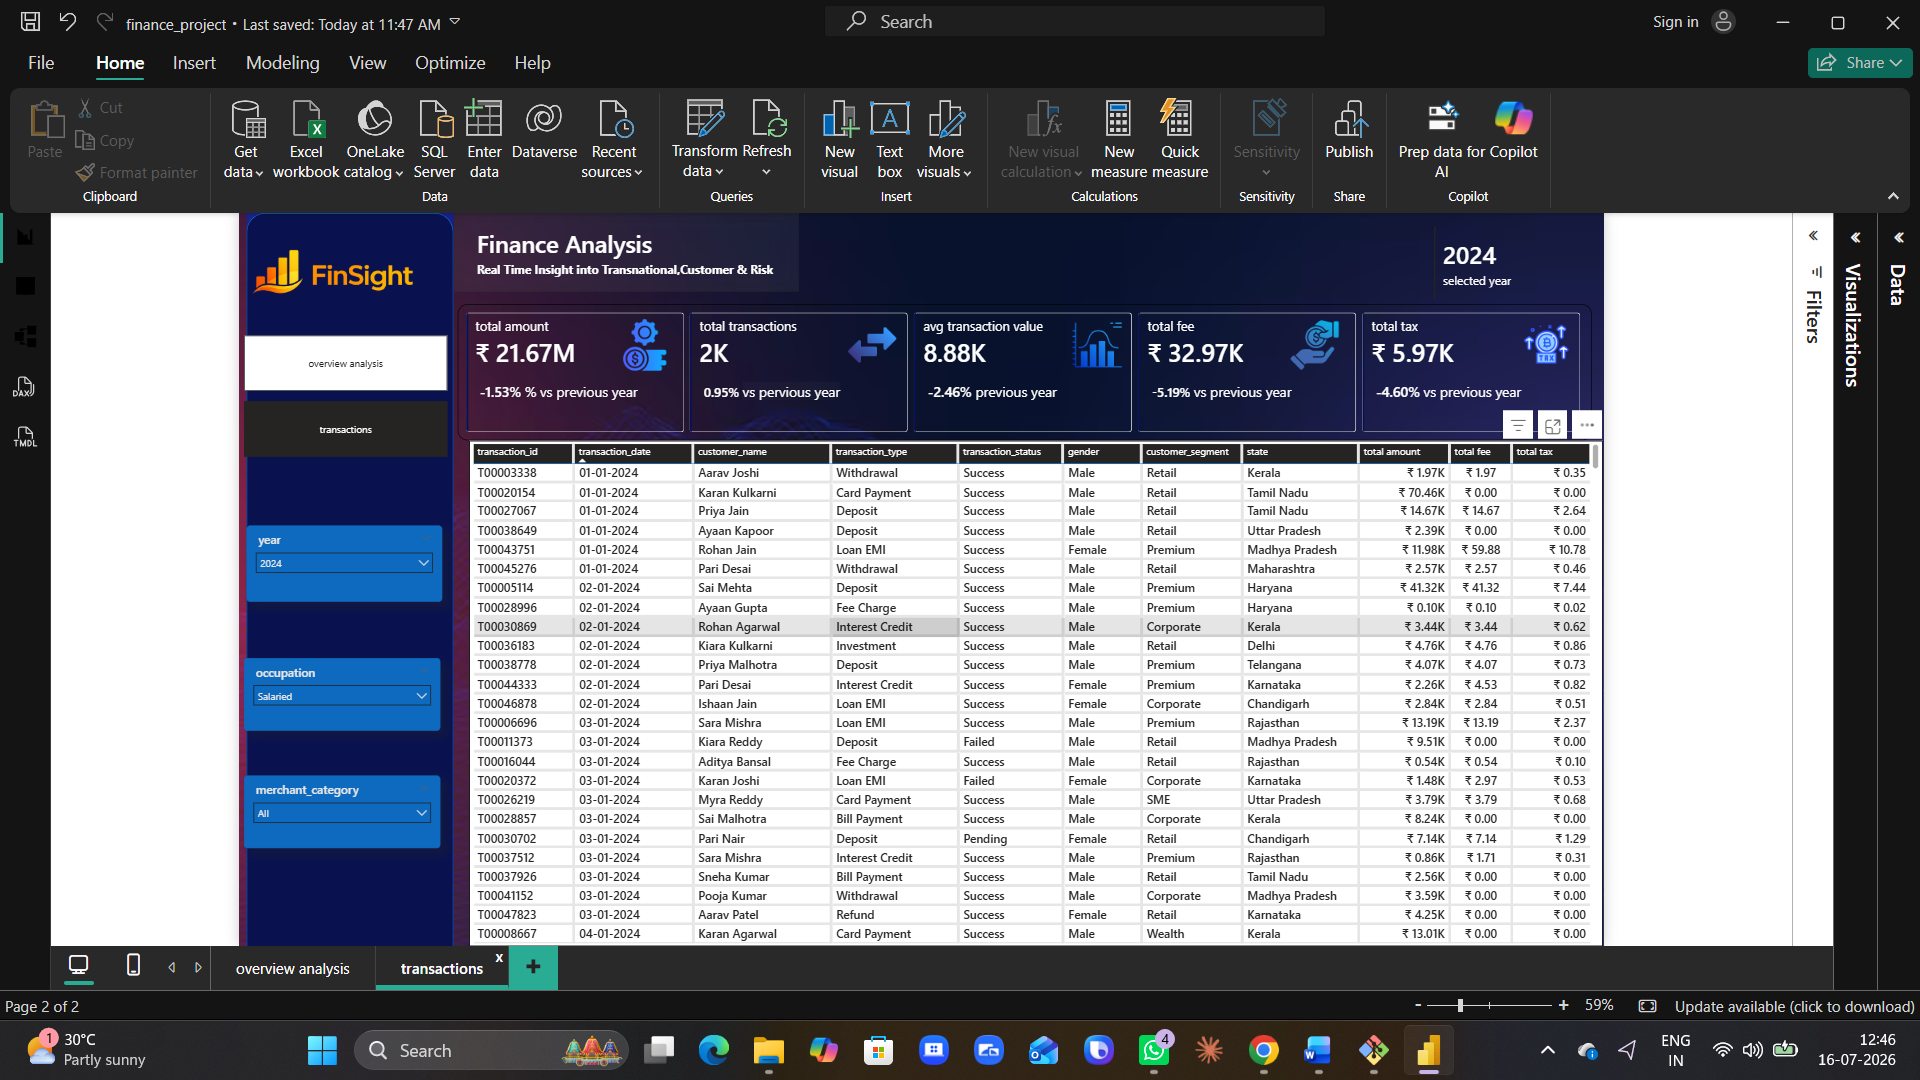

The dashboard page shown, as its layout file describes it:
{"tool":"powerbi","page":{"name":"transactions","canvas":[1845,992],"ordinal":1},"visuals":[{"type":"shape","box":[9.6,0,279.8,1049.7],"z":0},{"type":"image","box":[9.6,15.4,239.3,129.3],"z":1000},{"type":"cardVisual","fields":{"Data":["finance_transactions.dashboard title"]},"box":[290.8,0,466.6,106.5],"z":2000},{"type":"cardVisual","fields":{"Data":["finance_transactions.total amount","finance_transactions.total transactions","finance_transactions.avg transaction value","finance_transactions.total fee","finance_transactions.total tax"]},"box":[295.8,123.4,1533.3,184.3],"z":3000},{"type":"image","box":[498.7,143.7,99.7,69.3],"z":4000},{"type":"image","box":[1409.9,143.7,89.6,69.3],"z":5000},{"type":"image","box":[1110.7,143.7,99.7,69.3],"z":6000},{"type":"image","box":[1727.7,142,81.1,71],"z":7000},{"type":"image","box":[806.4,143.7,99.7,69.3],"z":8000},{"type":"cardVisual","fields":{"Data":["finance_transactions.selected year"]},"box":[1599.2,0,245.1,135.2],"z":9000},{"type":"tableEx","fields":{"Values":["finance_transactions.transaction_id","finance_transactions.transaction_date","customers.customer_name","finance_transactions.transaction_type","finance_transactions.transaction_status","customers.gender","customers.customer_segment","customers.state","finance_transactions.total amount","finance_transactions.total fee","finance_transactions.total tax"]},"box":[311.1,307.7,1533.3,684.7],"z":10000},{"type":"pageNavigator","box":[6.8,165.7,275.6,165.7],"z":11000},{"type":"slicer","fields":{"Values":["calenderv table.year"]},"box":[10.3,422.9,264.7,103.1],"z":12000},{"type":"slicer","title":"metric","fields":{"Values":["customers.occupation"]},"box":[6.8,601.8,265.4,98.1],"z":13000},{"type":"slicer","title":"metric","fields":{"Values":["finance_transactions.merchant_category"]},"box":[6.8,760.7,265.4,98.1],"z":14000}]}

Visuals, with their boxes on the page's 1845x992 design canvas (x1, y1, x2, y2). These are canvas units, not pixel positions in the 1920x1080 screenshot, which may show the page scaled, cropped or inside an application window:
shape: <bbox>10, 0, 289, 1050</bbox>
image: <bbox>10, 15, 249, 145</bbox>
cardVisual - finance_transactions.dashboard title: <bbox>291, 0, 757, 106</bbox>
cardVisual - finance_transactions.total amount x finance_transactions.total transactions: <bbox>296, 123, 1829, 308</bbox>
image: <bbox>499, 144, 598, 213</bbox>
image: <bbox>1410, 144, 1500, 213</bbox>
image: <bbox>1111, 144, 1210, 213</bbox>
image: <bbox>1728, 142, 1809, 213</bbox>
image: <bbox>806, 144, 906, 213</bbox>
cardVisual - finance_transactions.selected year: <bbox>1599, 0, 1844, 135</bbox>
tableEx - finance_transactions.transaction_id x finance_transactions.transaction_date: <bbox>311, 308, 1844, 992</bbox>
pageNavigator: <bbox>7, 166, 282, 331</bbox>
slicer - calenderv table.year: <bbox>10, 423, 275, 526</bbox>
"metric" slicer: <bbox>7, 602, 272, 700</bbox>
"metric" slicer: <bbox>7, 761, 272, 859</bbox>
